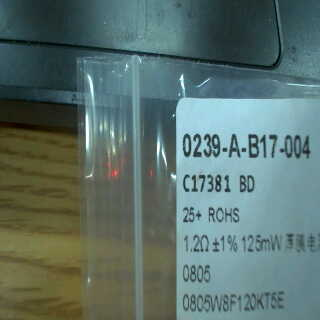1.2R: (181, 235, 213, 286)
